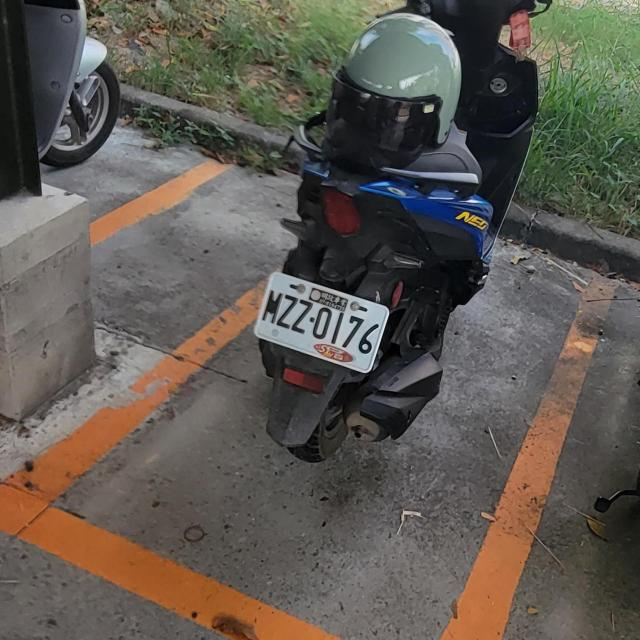W: (251, 270, 392, 373)
